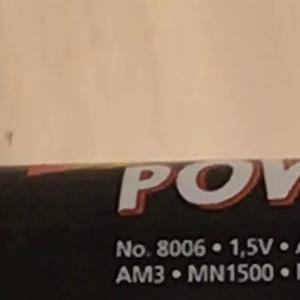keyword: (221, 229, 283, 264)
